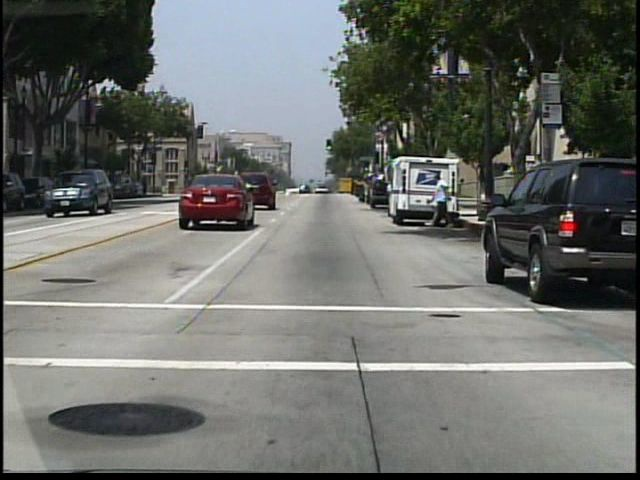person: (425, 173, 458, 231), (355, 173, 373, 208)
